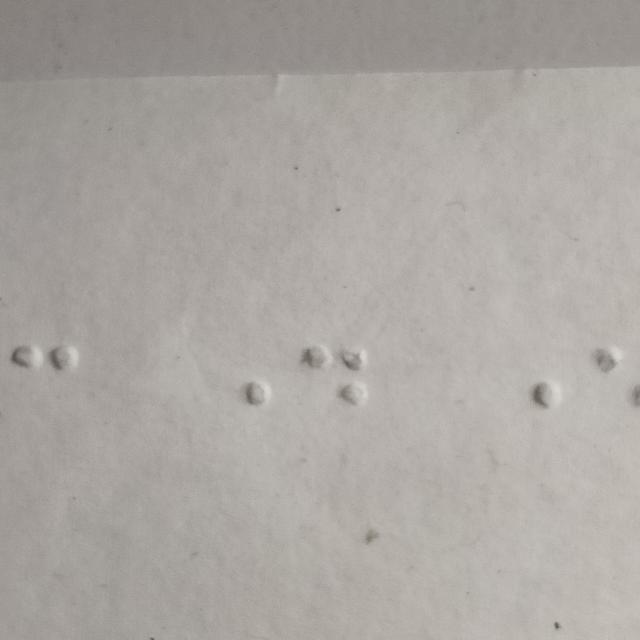dot_5: (211, 348, 278, 450)
two_cell_alphabet_dalaga: (303, 341, 369, 444)
